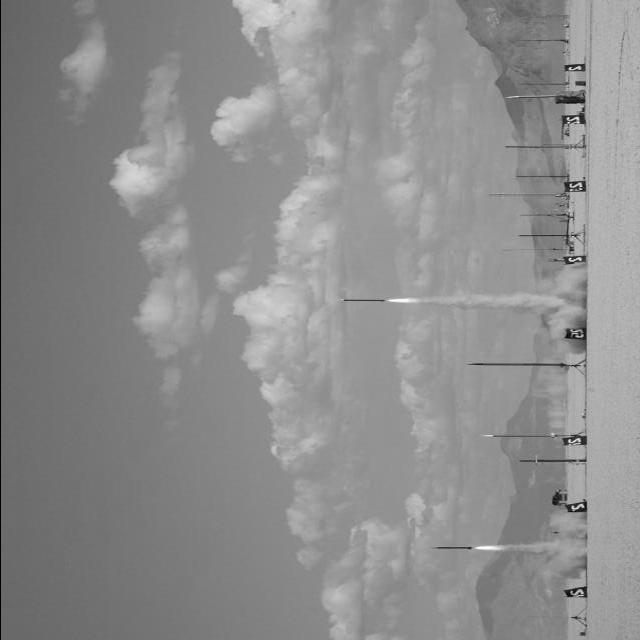missile: (467, 360, 568, 369), (328, 297, 384, 304), (501, 94, 563, 100), (477, 434, 558, 438), (431, 547, 473, 551)
